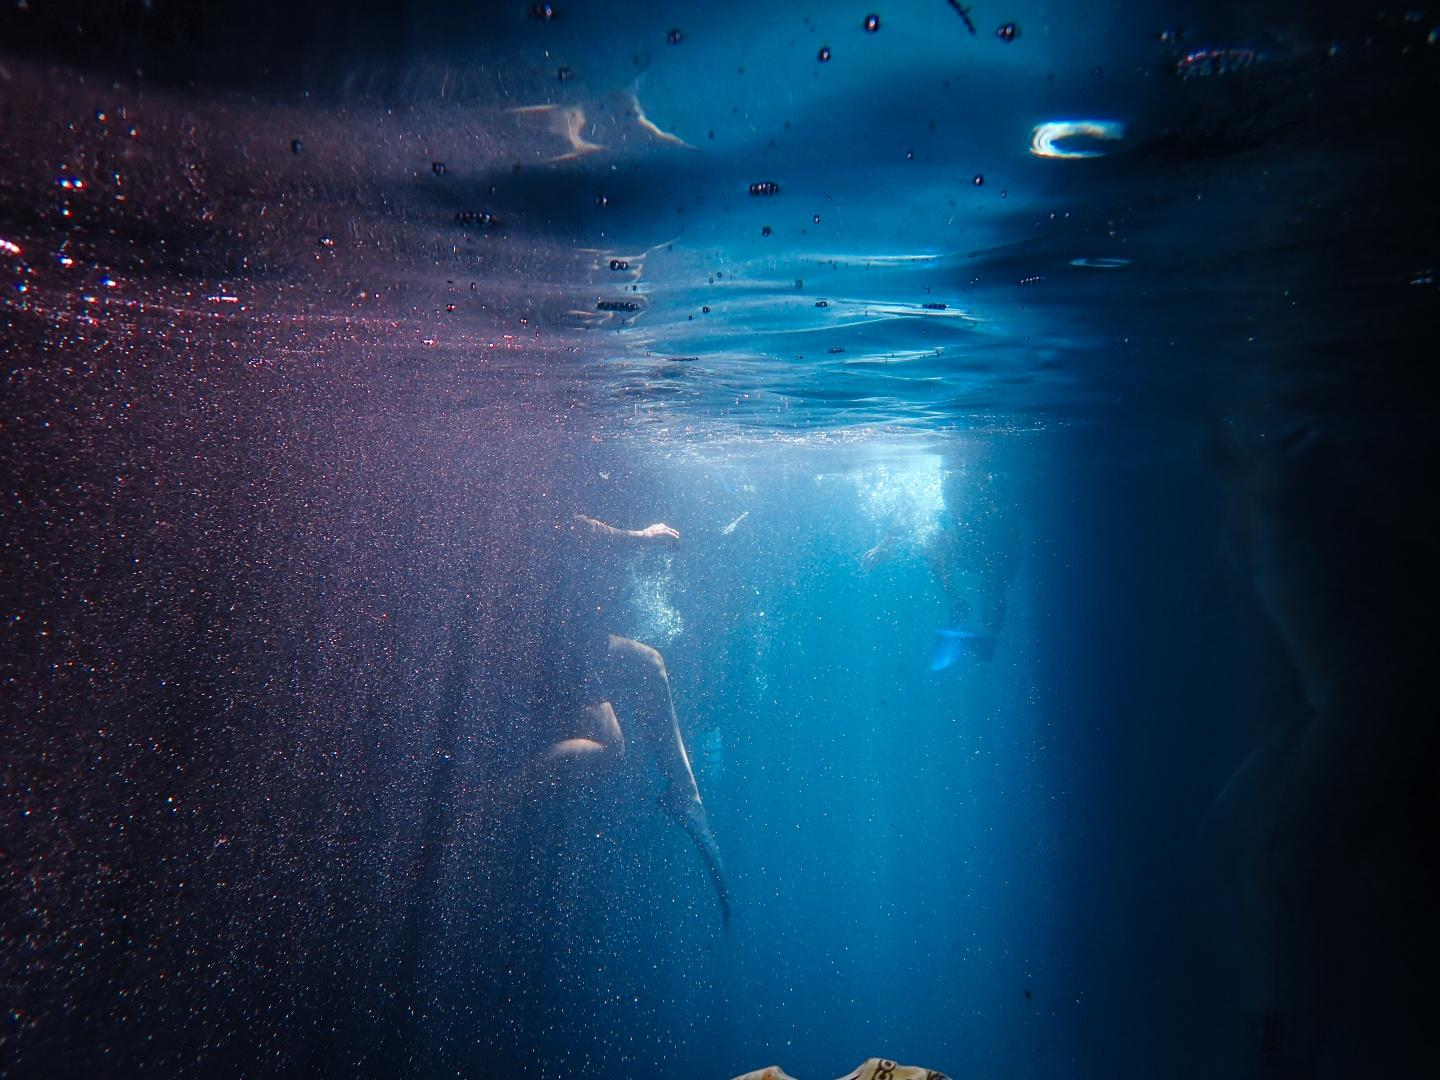clothes: (652, 1053, 1006, 1080)
